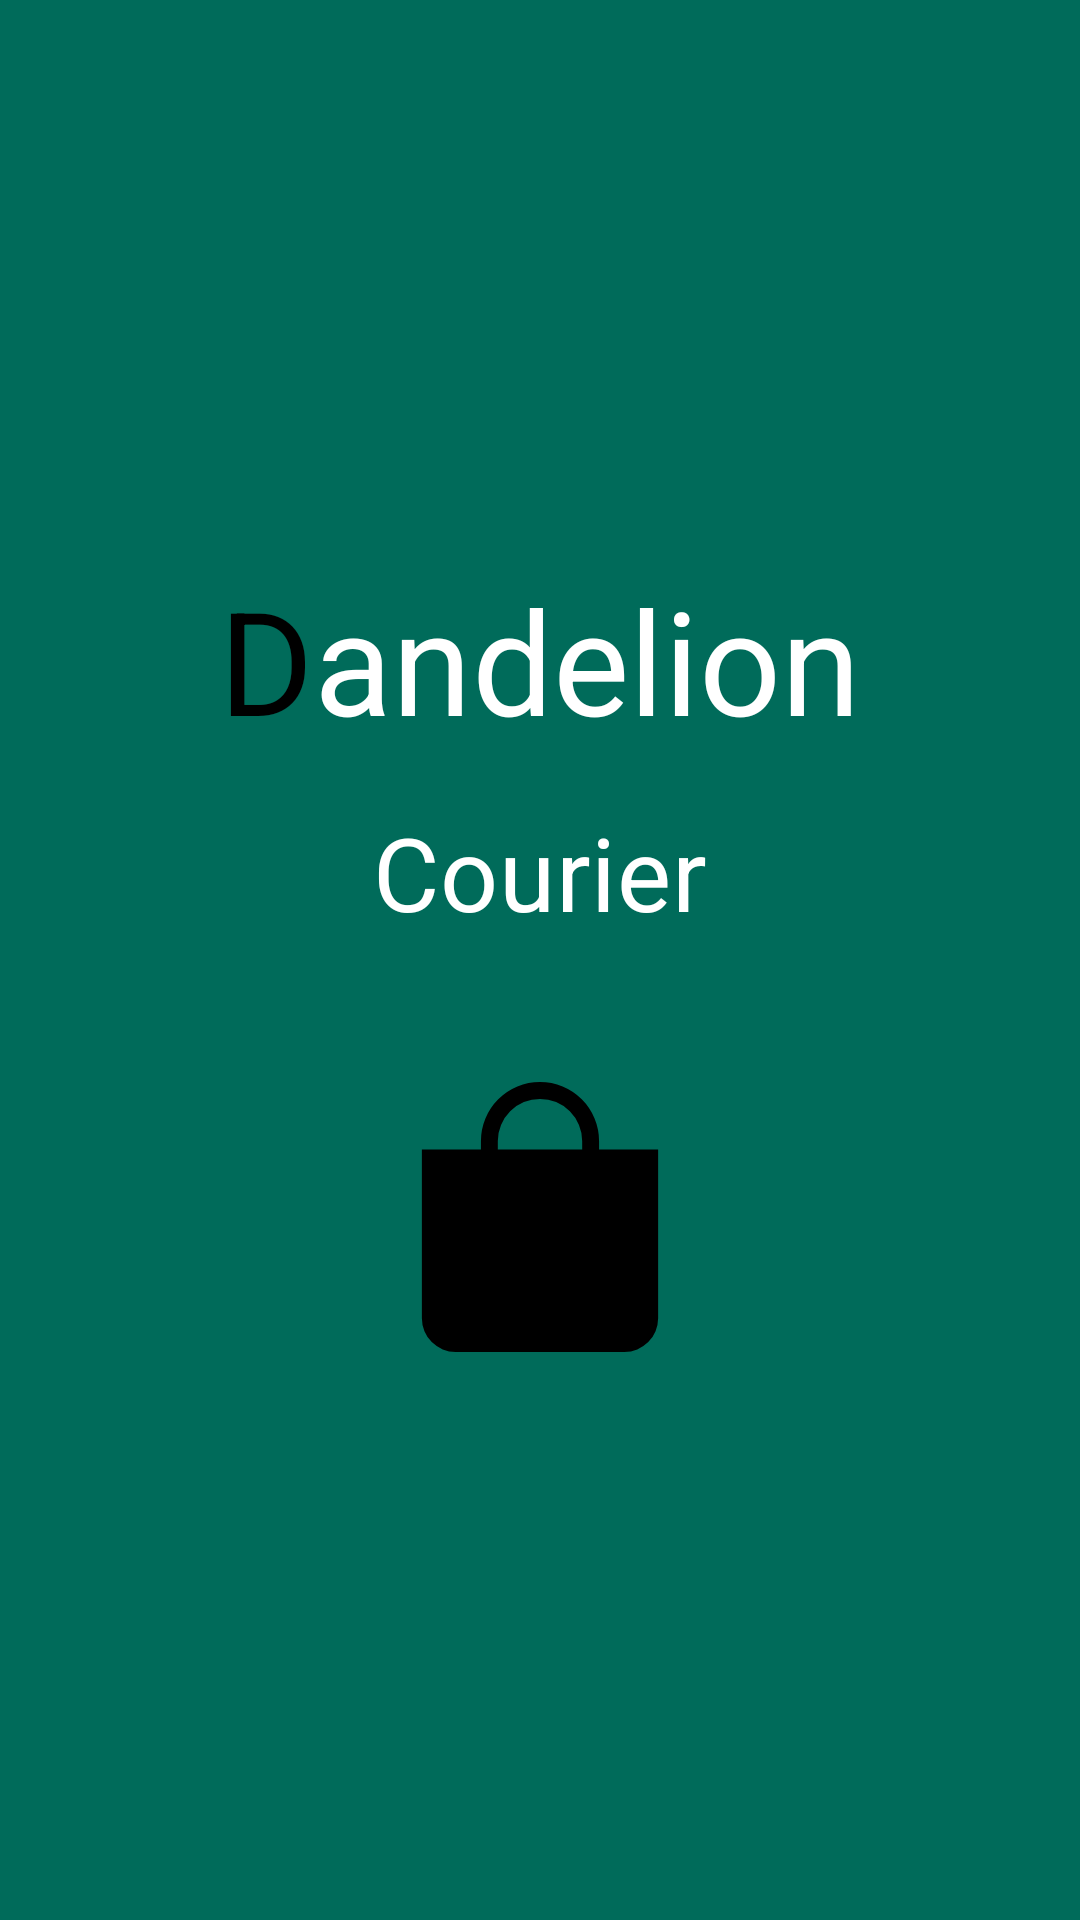

Point at icon controls on the screen. Image size 1080px x 1920px, points as point (x, y).
bag: point (540, 1217)
